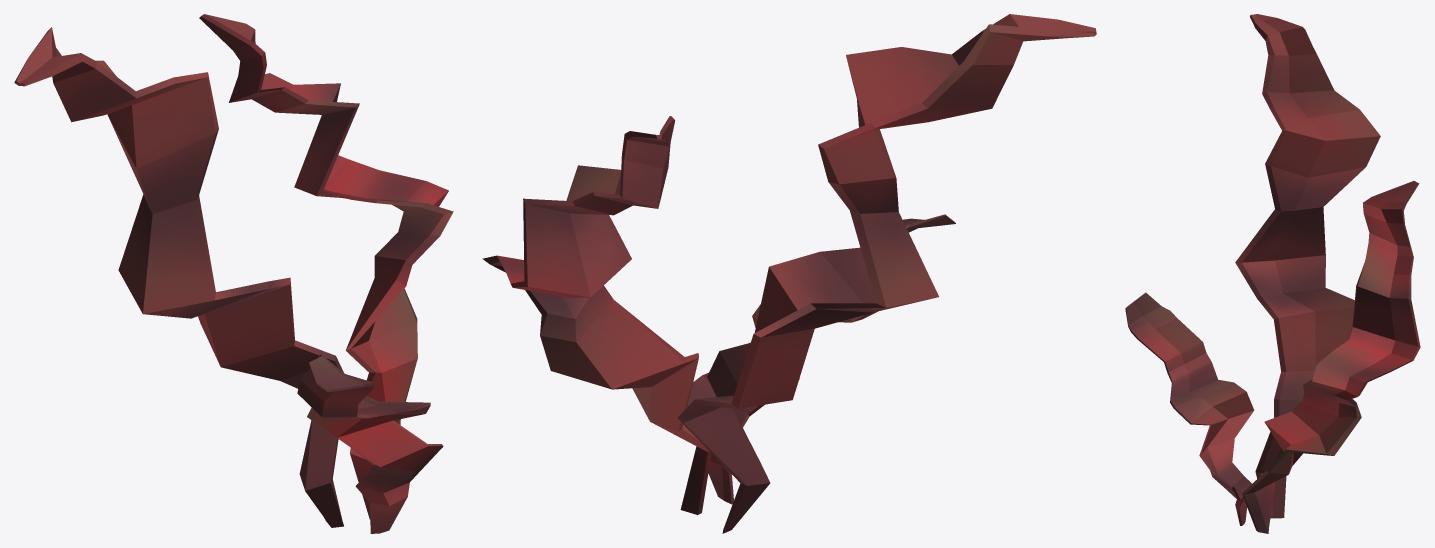
The model's file is RETAKE-origin_algue_rouge.fbx.
3 views of the same model, side by side, from view 1: azimuth 30°, elevation 25°; view 2: azimuth 150°, elevation 25°; view 3: azimuth 270°, elevation 25° (orthographic). The views are drawn at different scales.
Visible parts, largest first — view 1: algues rouges; view 2: algues rouges; view 3: algues rouges.
Boxes of the visible parts, x1,y1,x2,y2 form: algues rouges: (14,14,453,533); algues rouges: (482,14,1096,533); algues rouges: (1125,14,1420,533).
Size of the model in its own units: 416 by 435 by 291.
